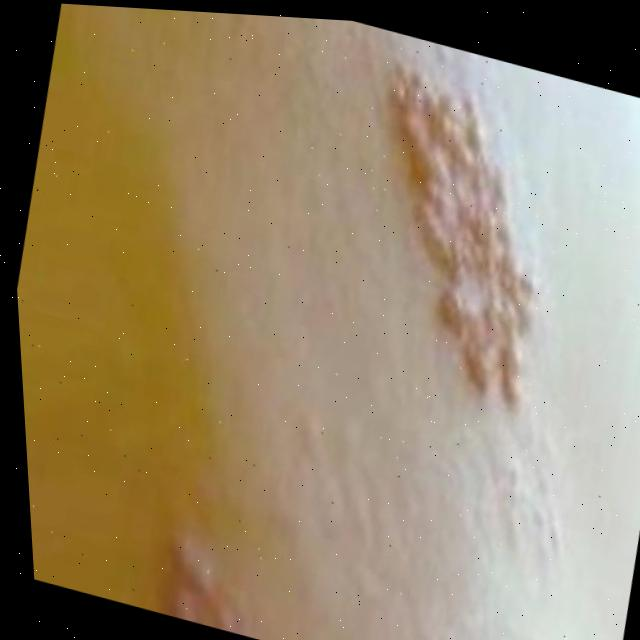Shingles: (340, 57, 590, 406)
